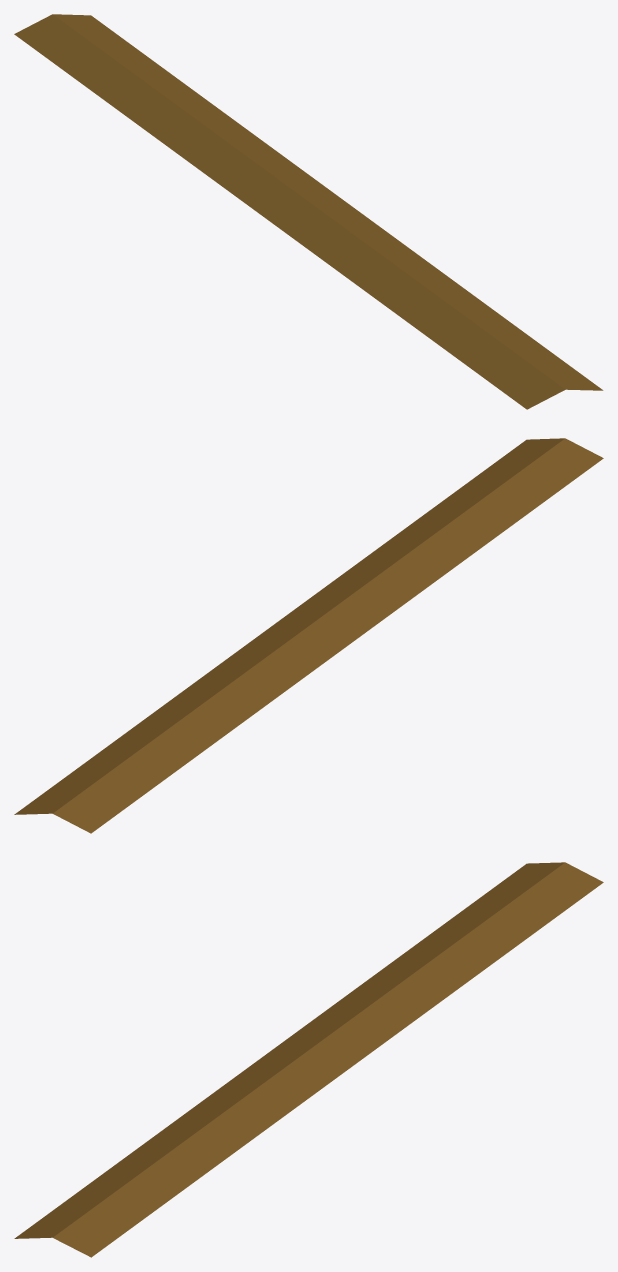
The model's file is roof.glb.
3 views of the same model, one above another, from view 1: azimuth 30°, elevation 25°; view 2: azimuth 150°, elevation 25°; view 3: azimuth 330°, elevation 25° (orthographic).
Visible parts, largest first — view 1: dach.002; view 2: dach.002; view 3: dach.002.
Part boxes in pixels (x1=…): dach.002: x1=14, y1=14, x2=603, y2=409; dach.002: x1=14, y1=438, x2=603, y2=833; dach.002: x1=14, y1=862, x2=603, y2=1257.
Bounding box in the file's own units: 11.31 × 1.48 × 130.
